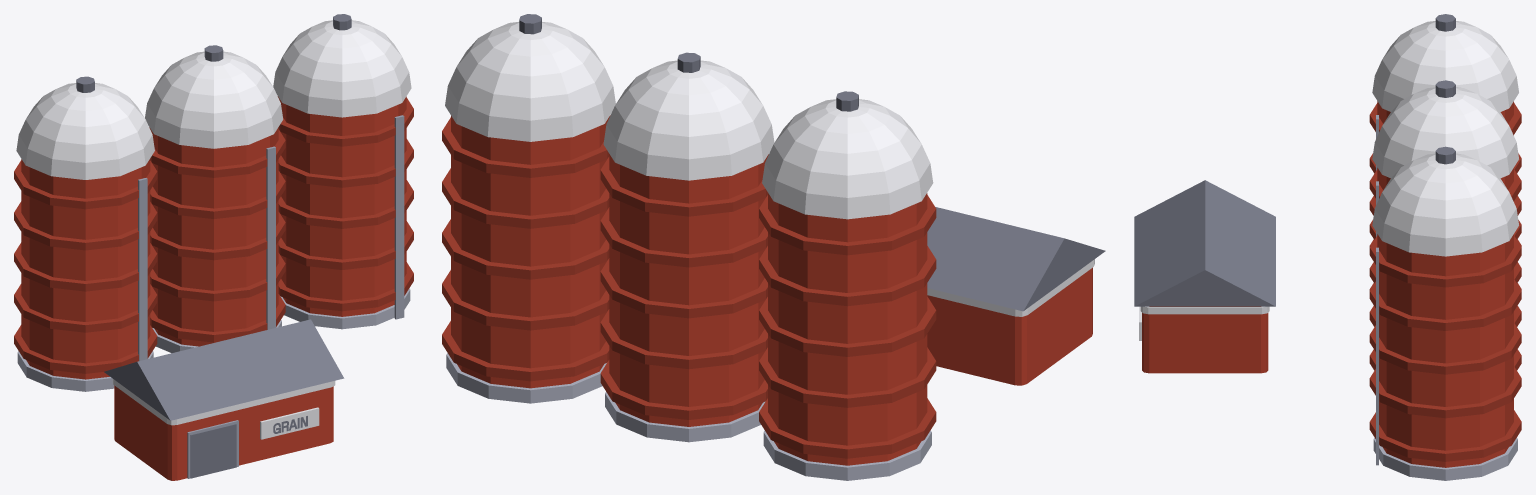
File: silo-2x2-t5-tone-a.glb
3 views of the same model, side by side, from view 1: azimuth 30°, elevation 25°; view 2: azimuth 150°, elevation 25°; view 3: azimuth 270°, elevation 25° (orthographic). The views are drawn at different scales.
Visible parts, largest first — view 1: silo-2x2-t5-tone-a; view 2: silo-2x2-t5-tone-a; view 3: silo-2x2-t5-tone-a.
Boxes of the visible parts, x1,y1,x2,y2 form: silo-2x2-t5-tone-a: [14, 14, 413, 480]; silo-2x2-t5-tone-a: [442, 14, 1105, 480]; silo-2x2-t5-tone-a: [1134, 14, 1521, 480].
Bounding box in the file's own units: 1.84 × 1.3 × 1.53.
1 material, 1 textured.
